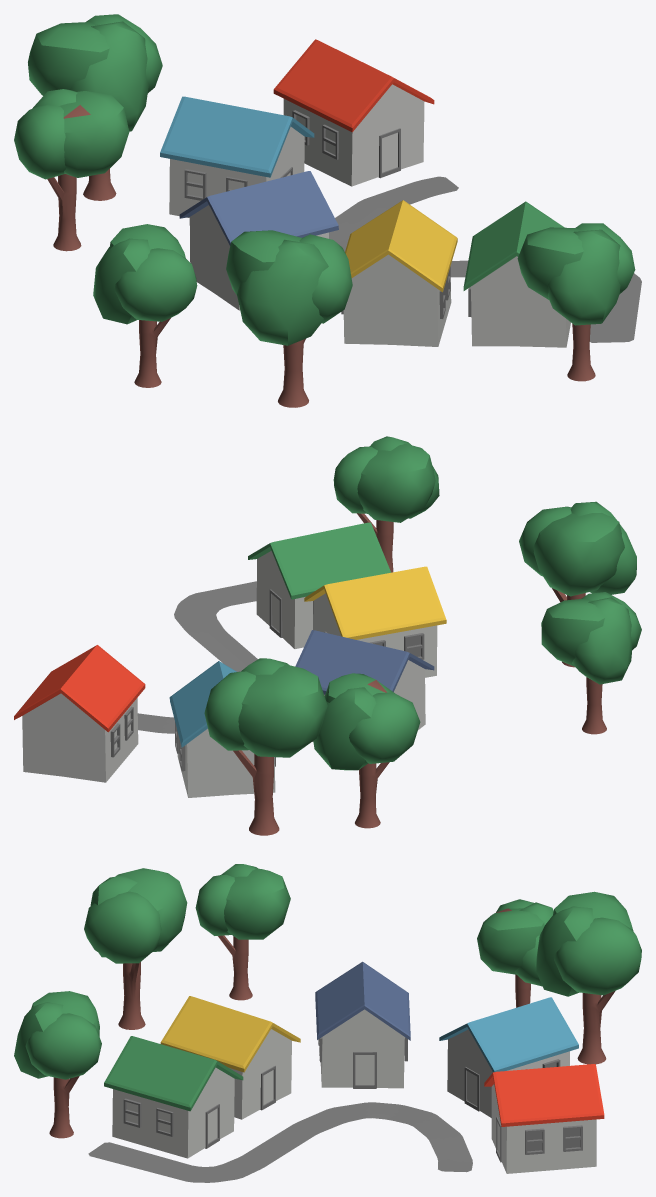
Rendered from city.fbx.
3 renders of one model, top to bottom at view 1: azimuth 30°, elevation 25°; view 2: azimuth 150°, elevation 25°; view 3: azimuth 270°, elevation 25°, orthographic. The views are drawn at different scales.
Visible parts, largest first — view 1: Cube.101, Cube.114, Icosphere.025, Cube.110, Icosphere.019, Icosphere.024, Icosphere.018, Cube.109, Icosphere.023, Cube.100, Plane.010; view 2: Cube.101, Icosphere.019, Cube.109, Cube.114, Icosphere.024, Icosphere.025, Icosphere.023, Icosphere.018, Cube.110, Cube.100, Plane.010; view 3: Cube.109, Cube.101, Icosphere.019, Cube.100, Icosphere.025, Cube.110, Cube.114, Plane.010, Icosphere.018, Icosphere.023, Icosphere.024.
Boxes of the visible parts, bbox=[...] form: Cube.101: bbox=[273, 39, 434, 186]; Cube.114: bbox=[341, 200, 457, 346]; Icosphere.025: bbox=[226, 230, 352, 407]; Cube.110: bbox=[160, 96, 314, 217]; Icosphere.019: bbox=[28, 14, 162, 200]; Icosphere.024: bbox=[14, 89, 129, 251]; Icosphere.018: bbox=[517, 223, 635, 381]; Cube.109: bbox=[463, 201, 570, 347]; Icosphere.023: bbox=[93, 224, 197, 387]; Cube.100: bbox=[179, 171, 338, 310]; Plane.010: bbox=[329, 176, 641, 342]; Cube.101: bbox=[14, 645, 145, 782]; Icosphere.019: bbox=[204, 658, 327, 835]; Cube.109: bbox=[248, 522, 390, 648]; Cube.114: bbox=[304, 566, 446, 677]; Icosphere.024: bbox=[313, 673, 420, 828]; Icosphere.025: bbox=[519, 501, 636, 667]; Icosphere.023: bbox=[541, 592, 641, 734]; Icosphere.018: bbox=[333, 436, 439, 572]; Cube.110: bbox=[169, 661, 275, 797]; Cube.100: bbox=[295, 630, 434, 741]; Plane.010: bbox=[137, 581, 257, 733]; Cube.109: bbox=[104, 1036, 243, 1158]; Cube.101: bbox=[484, 1064, 604, 1173]; Icosphere.019: bbox=[535, 891, 641, 1064]; Cube.100: bbox=[315, 961, 410, 1088]; Icosphere.025: bbox=[84, 868, 187, 1029]; Cube.110: bbox=[439, 997, 578, 1117]; Cube.114: bbox=[160, 996, 300, 1119]; Plane.010: bbox=[88, 1102, 472, 1182]; Icosphere.018: bbox=[14, 991, 101, 1138]; Icosphere.023: bbox=[195, 864, 290, 1000]; Icosphere.024: bbox=[477, 899, 553, 1007].
Bounding box in the file's own units: 0.7301 × 0.2471 × 0.9006.
